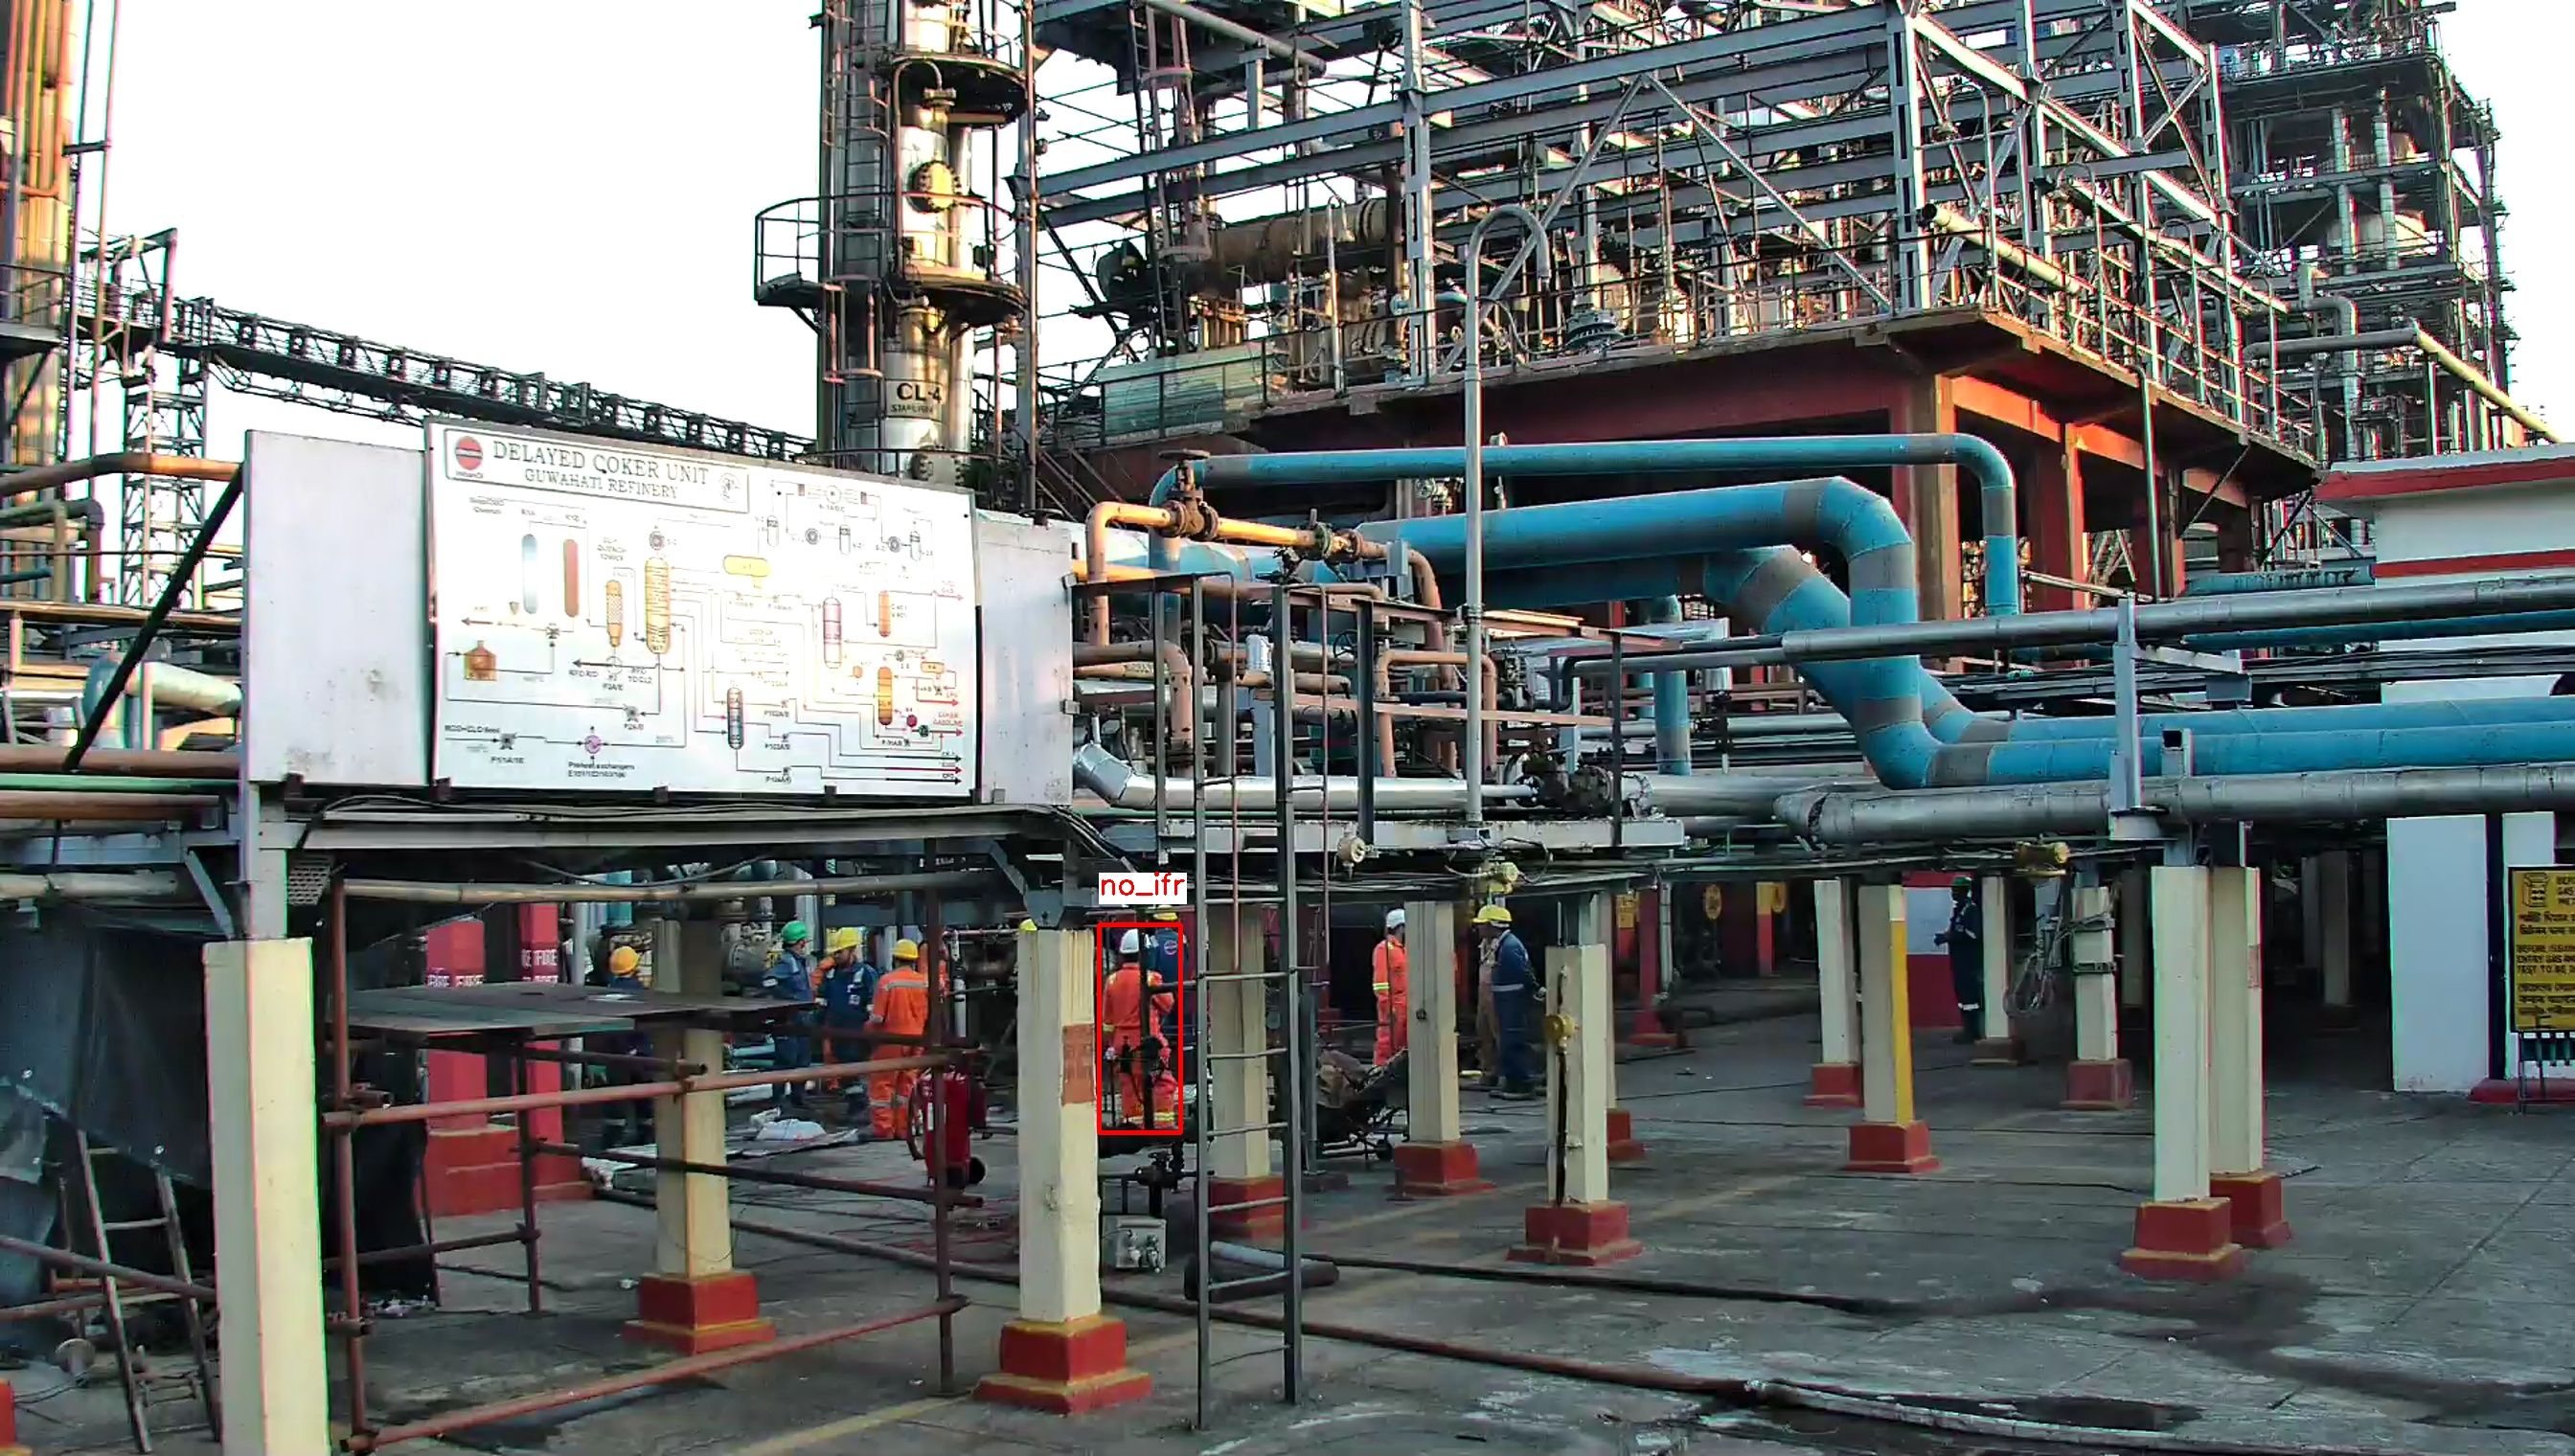Helmets: (831, 922, 867, 955), (1471, 904, 1523, 927), (605, 945, 642, 975), (780, 918, 812, 952), (890, 938, 923, 962)
IFR_Suit: (1104, 968, 1173, 1125), (870, 968, 928, 1115), (1491, 932, 1537, 1077)
